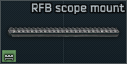RFB scope mount rail: (0, 0, 127, 64)
